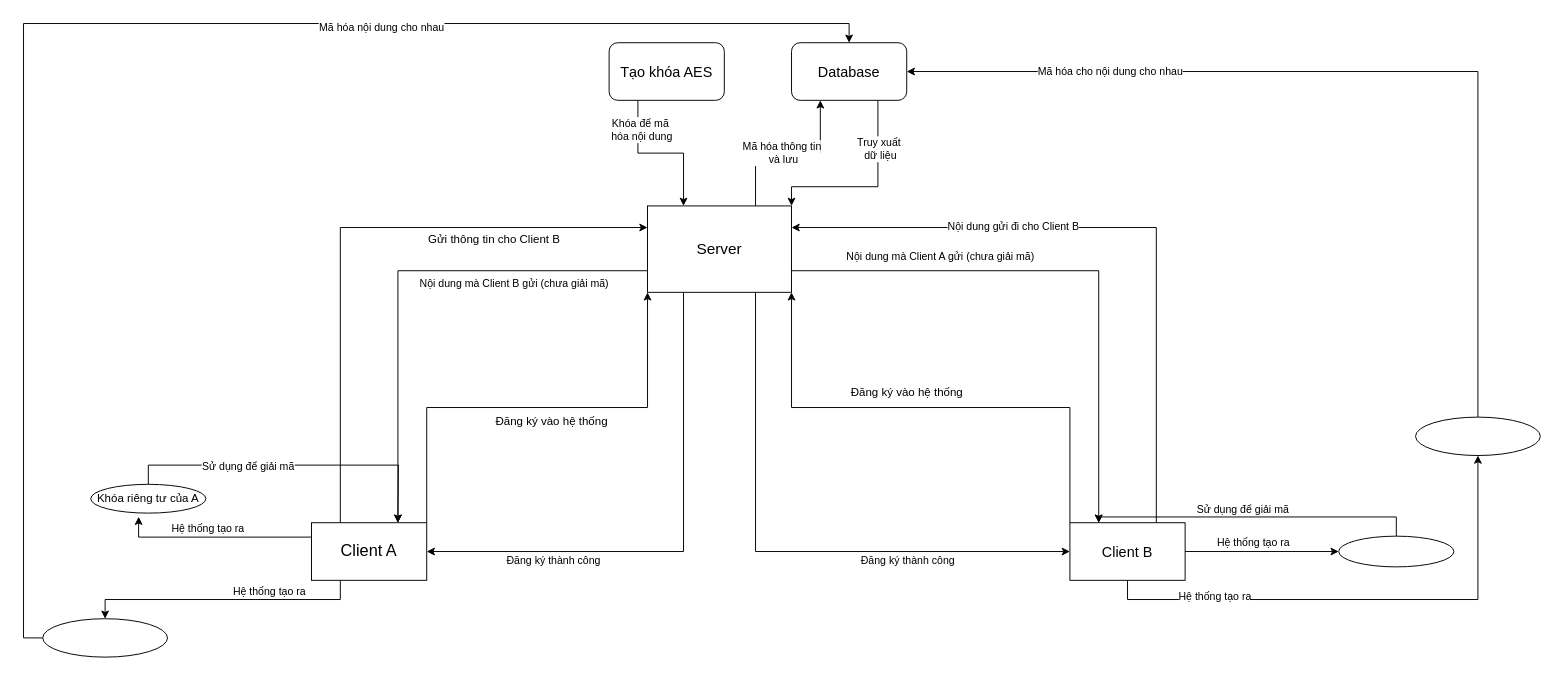
Some shapes in this 1557 by 674 pixel diagram are drawn without their labels. Each missing label, with the centre of its shape:
Khóa công khai của A: (105,637)
Khóa công khai của B: (1477,436)
Khóa riêng tư của B: (1396,551)
